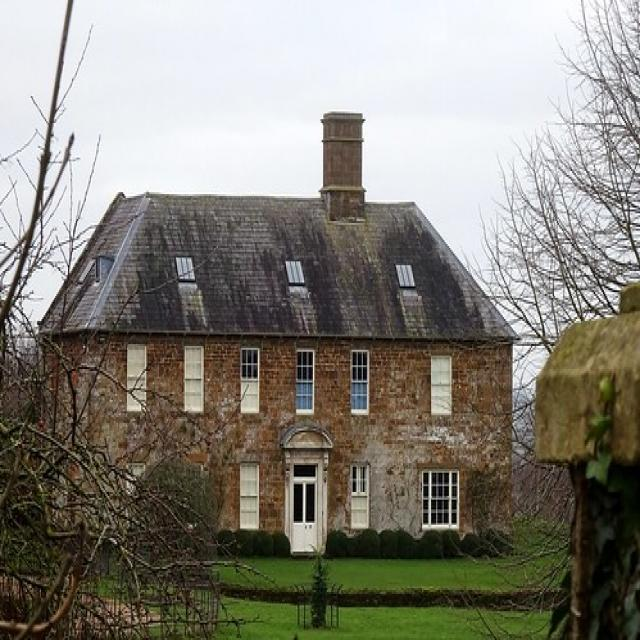Normal_building: (30, 114, 519, 552)
